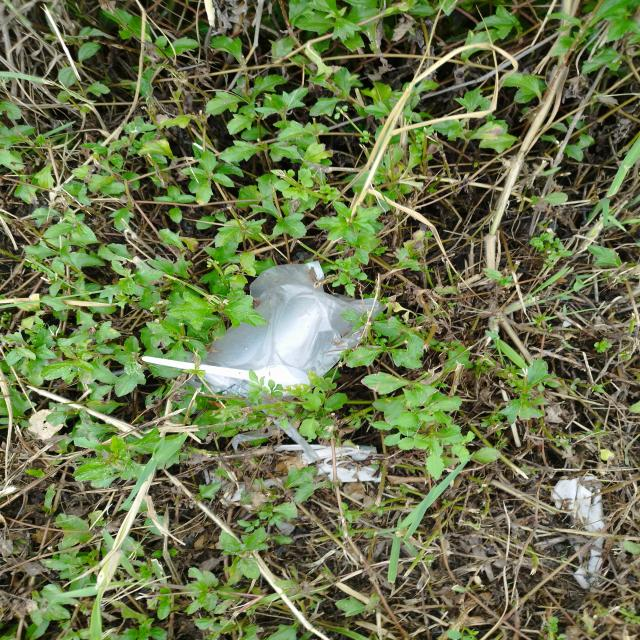plastic utensil: (143, 354, 314, 393)
trash bag: (195, 261, 387, 386)
